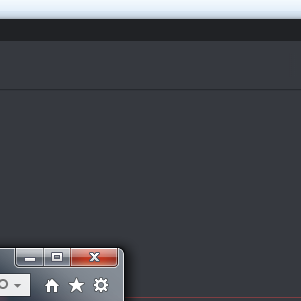close: (70, 247, 117, 267)
